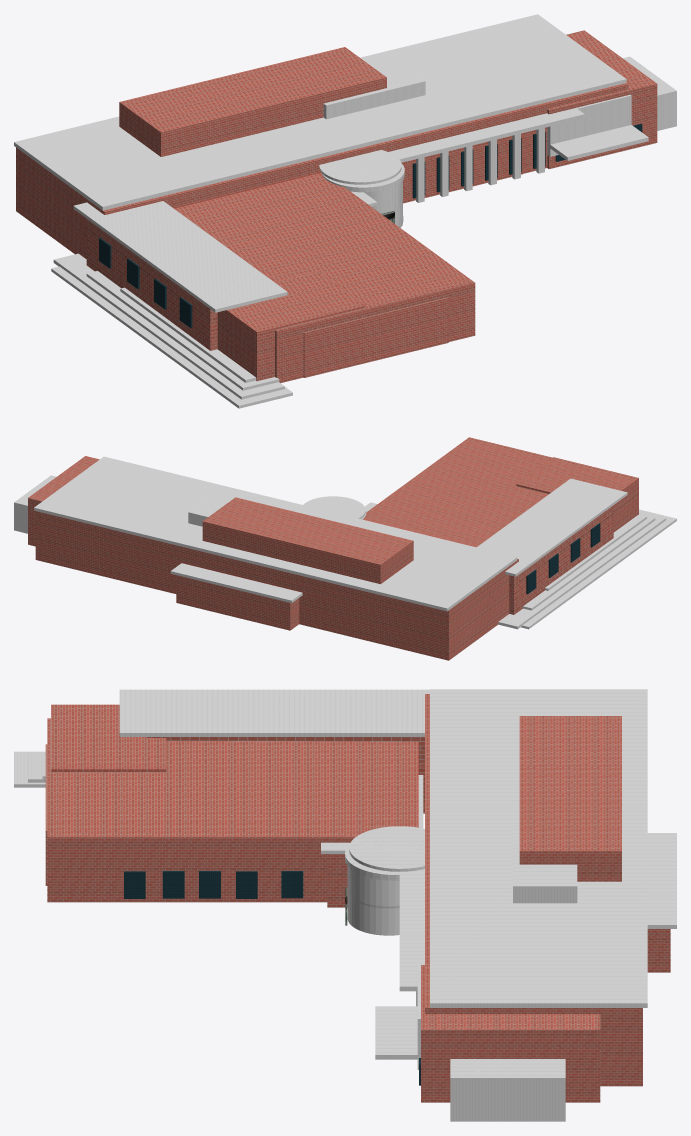
The model's file is schwitzer_student_center_v11.glb.
3 views of the same model, one above another, from view 1: azimuth 30°, elevation 25°; view 2: azimuth 150°, elevation 25°; view 3: azimuth 270°, elevation 25° (orthographic). The views are drawn at different scales.
Visible parts, largest first — view 1: north_bar_roof_cap_1, west_stem_main_1, rear_upper_mass_1, north_bar_main_1, rear_lower_entry_cap, southwest_low_mass_1, west_stem_south_step_1, rear_lower_entry, panel_block_main_1, amp_terrace_1_5, east_fin_hall_roof_1, east_fin_hall_1 (+10 smaller); view 2: north_bar_roof_cap_1, north_bar_main_1, west_stem_main_1, rear_upper_mass_1, rear_lower_entry_cap, rear_lower_entry_1, southwest_low_mass_1, rear_lower_entry, rear_lower_entry_cap_1, amp_terrace_1_5, amp_terrace_4, panel_block_main_1 (+5 smaller); view 3: north_bar_roof_cap_1, west_stem_main_1, rear_upper_mass_1, rear_lower_entry_cap, panel_block_main_1, far_east_stub_1, southwest_low_mass_1, north_bar_main_1, east_fin_hall_roof_1, rotunda_roof_ring_1, rotunda_cap_3, rear_lower_entry_cap_1 (+10 smaller).
Part boxes in pixels (x1,y1,x2,y2): north_bar_roof_cap_1: (14,14,626,210); west_stem_main_1: (174,172,475,383); rear_upper_mass_1: (119,47,386,156); north_bar_main_1: (16,83,628,258); rear_lower_entry_cap: (73,201,287,312); southwest_low_mass_1: (217,271,365,381); west_stem_south_step_1: (303,297,448,377); rear_lower_entry: (86,219,217,350); panel_block_main_1: (547,30,657,168); amp_terrace_1_5: (53,253,284,399); east_fin_hall_roof_1: (389,108,584,162); east_fin_hall_1: (401,133,522,203); north_bar_roof_cap_1: (34,456,517,611); north_bar_main_1: (35,511,518,660); west_stem_main_1: (363,437,552,547); rear_upper_mass_1: (202,497,413,584); rear_lower_entry_cap: (477,478,627,576); rear_lower_entry_1: (176,575,299,630); southwest_low_mass_1: (516,457,638,532); rear_lower_entry: (509,505,613,614); rear_lower_entry_cap_1: (170,563,302,603); amp_terrace_1_5: (498,512,665,629); amp_terrace_4: (521,509,676,629); panel_block_main_1: (28,456,99,546); north_bar_roof_cap_1: (430,689,647,1007); west_stem_main_1: (47,718,418,902); rear_upper_mass_1: (519,716,621,881); rear_lower_entry_cap: (119,689,429,736); panel_block_main_1: (421,965,600,1102); far_east_stub_1: (450,1059,565,1121); southwest_low_mass_1: (51,704,166,772); north_bar_main_1: (425,694,642,1086); east_fin_hall_roof_1: (399,869,424,991); rotunda_roof_ring_1: (349,826,424,871); rotunda_cap_3: (347,866,399,935); rear_lower_entry_cap_1: (647,833,676,928).
Size of the model in its own units: 136 by 20.7 by 104.
6 materials, 6 textured.
